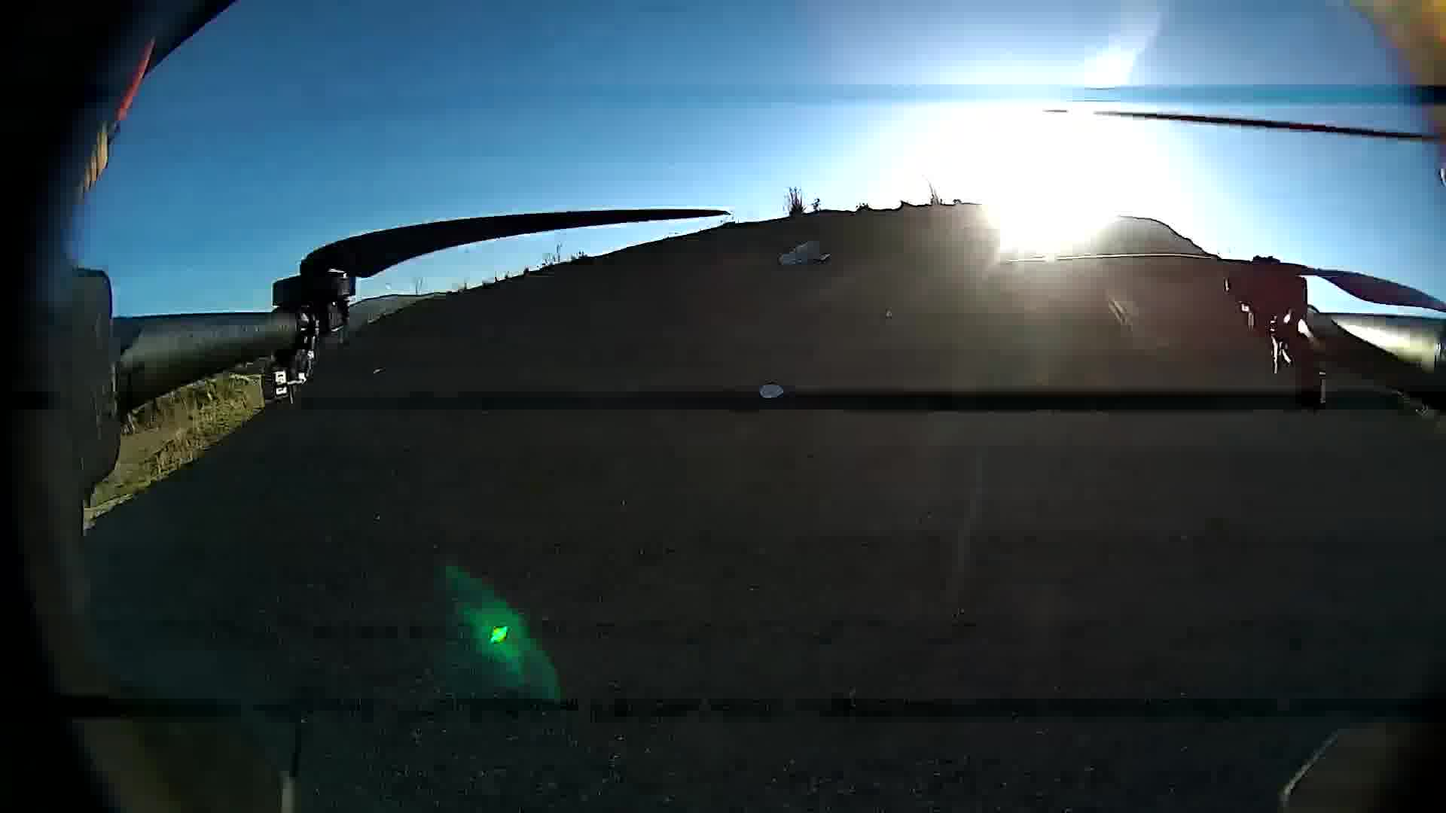Target: (755, 382, 790, 398)
